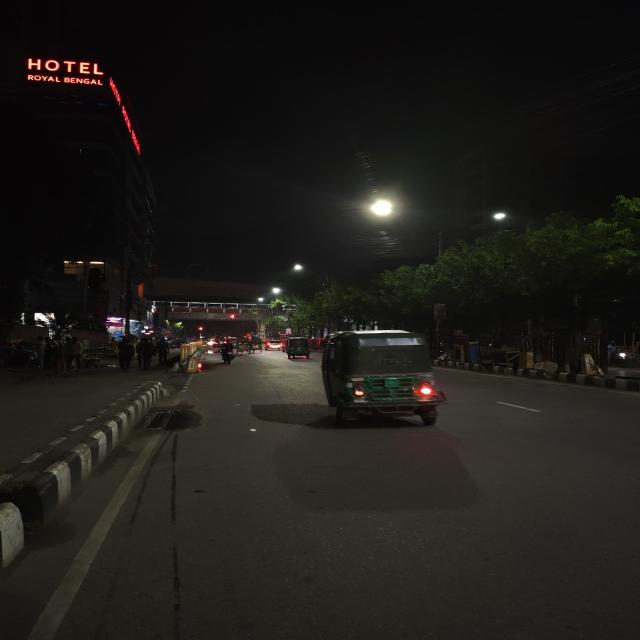bicycle: (218, 341, 238, 365)
car: (265, 339, 283, 351)
cng: (315, 327, 455, 429), (281, 337, 314, 361)
pedestrian: (115, 335, 136, 371), (136, 334, 156, 370), (153, 334, 170, 364)
rickshaw: (248, 336, 264, 354), (237, 338, 251, 355)
